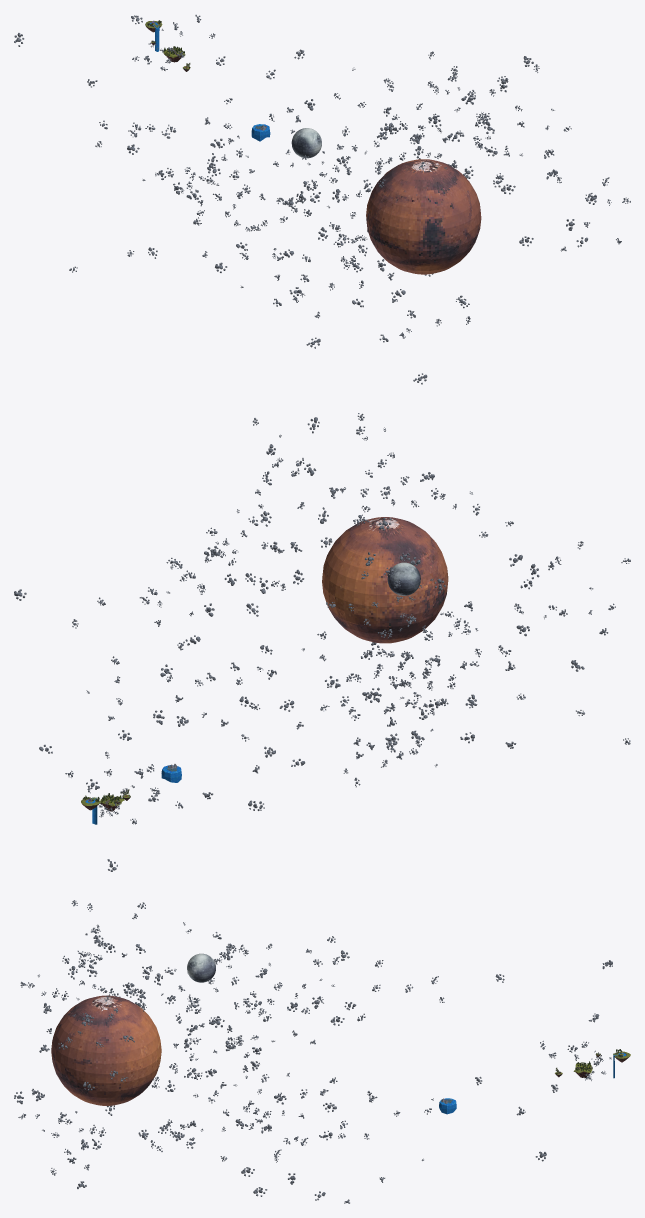
Rendered from Flythrough Final.fbx.
3 renders of one model, top to bottom at view 1: azimuth 30°, elevation 25°; view 2: azimuth 150°, elevation 25°; view 3: azimuth 270°, elevation 25°, orthographic. The views are drawn at different scales.
Visible parts, largest first — view 1: Mars, Mars Moon; view 2: Mars, Mars Moon; view 3: Mars, Mars Moon.
Part boxes in pixels (x1=…): Mars: x1=366, y1=159, x2=481, y2=274; Mars Moon: x1=291, y1=128, x2=321, y2=158; Mars: x1=322, y1=517, x2=448, y2=643; Mars Moon: x1=387, y1=562, x2=420, y2=595; Mars: x1=51, y1=995, x2=161, y2=1105; Mars Moon: x1=187, y1=953, x2=215, y2=982.
Bounding box in the file's own units: 134884 × 74311 × 147117.
Materials: 21 (21 with a texture image).
